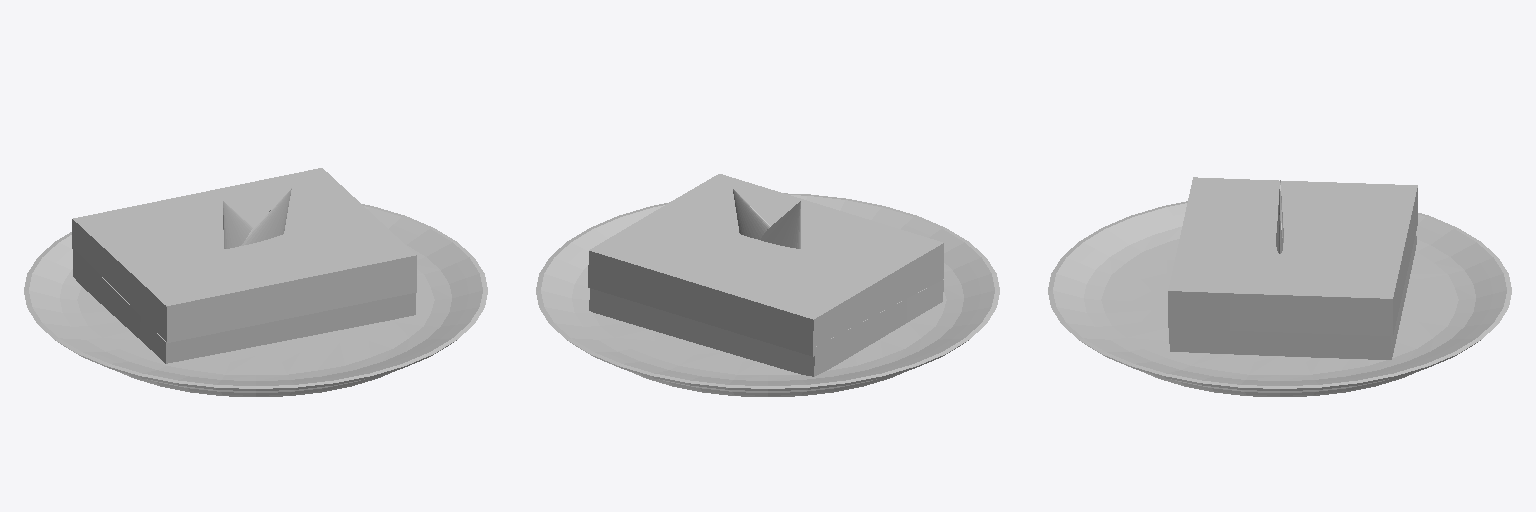
Rendered from lapis ketan sarikaya.obj.
3 views of the same model, side by side, from view 1: azimuth 30°, elevation 25°; view 2: azimuth 150°, elevation 25°; view 3: azimuth 270°, elevation 25° (orthographic).
Visible parts, largest first — view 1: Cube.012_Cube.013, Cylinder_Cylinder.002, Cube.013_Cube.014, Cone.001, Cone; view 2: Cube.012_Cube.013, Cylinder_Cylinder.002, Cube.013_Cube.014, Cone, Cone.001; view 3: Cylinder_Cylinder.002, Cube.012_Cube.013, Cube.013_Cube.014.
Part boxes in pixels (bbox=[...]): Cube.012_Cube.013: bbox=[72, 168, 416, 342]; Cylinder_Cylinder.002: bbox=[24, 204, 487, 396]; Cube.013_Cube.014: bbox=[73, 248, 415, 363]; Cone.001: bbox=[241, 188, 291, 245]; Cone: bbox=[223, 201, 253, 248]; Cube.012_Cube.013: bbox=[588, 174, 943, 356]; Cylinder_Cylinder.002: bbox=[536, 193, 999, 396]; Cube.013_Cube.014: bbox=[589, 279, 943, 376]; Cone: bbox=[760, 201, 800, 248]; Cone.001: bbox=[733, 189, 770, 239]; Cylinder_Cylinder.002: bbox=[1048, 201, 1511, 396]; Cube.012_Cube.013: bbox=[1168, 177, 1417, 335]; Cube.013_Cube.014: bbox=[1169, 235, 1416, 359].
Size of the model in its own units: 3.5 by 1.05 by 3.5.